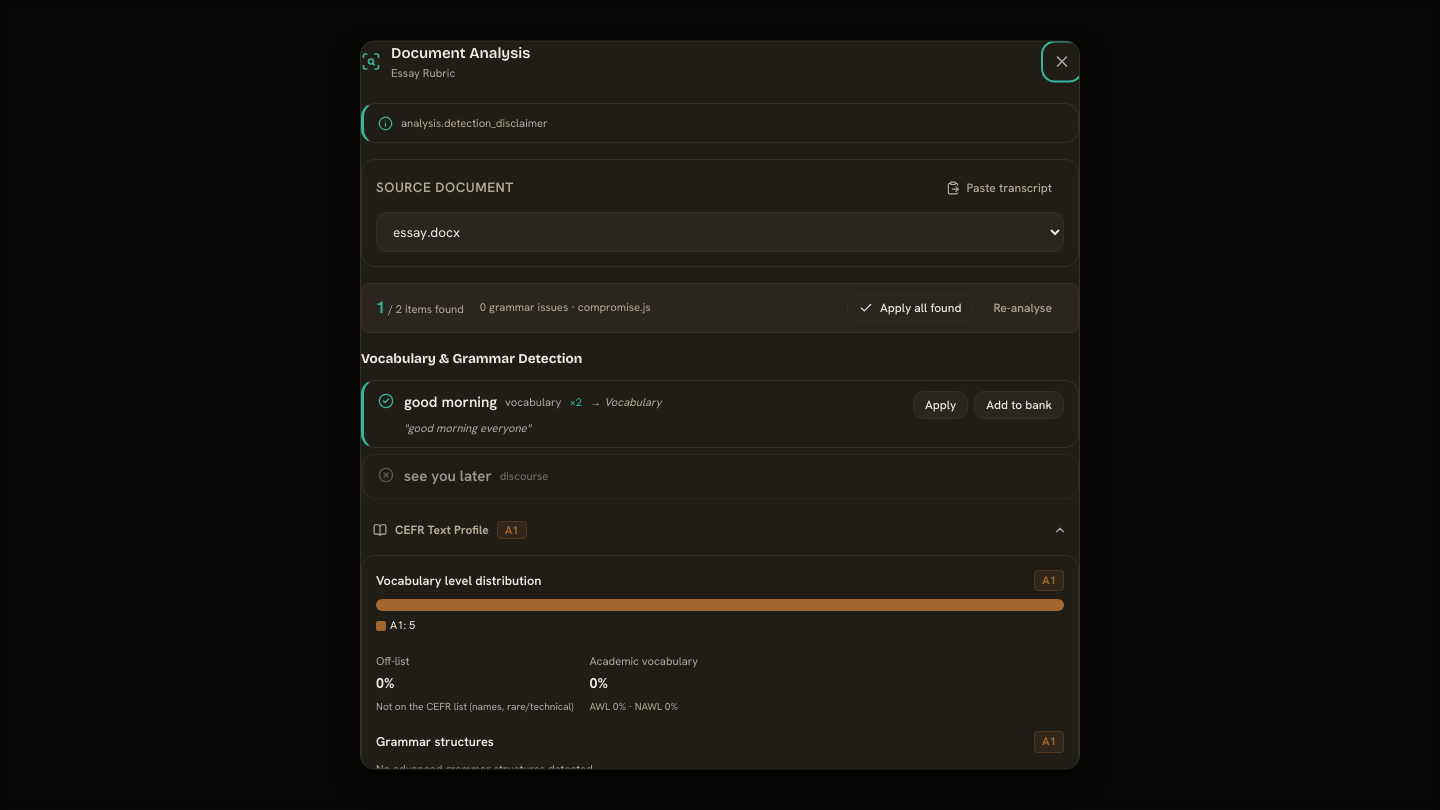
Test: DocumentAnalysisPanel › adds a found phrase to the comment bank
Click the button "Add to bank" at (1019, 404), box [974,390,1064,418]
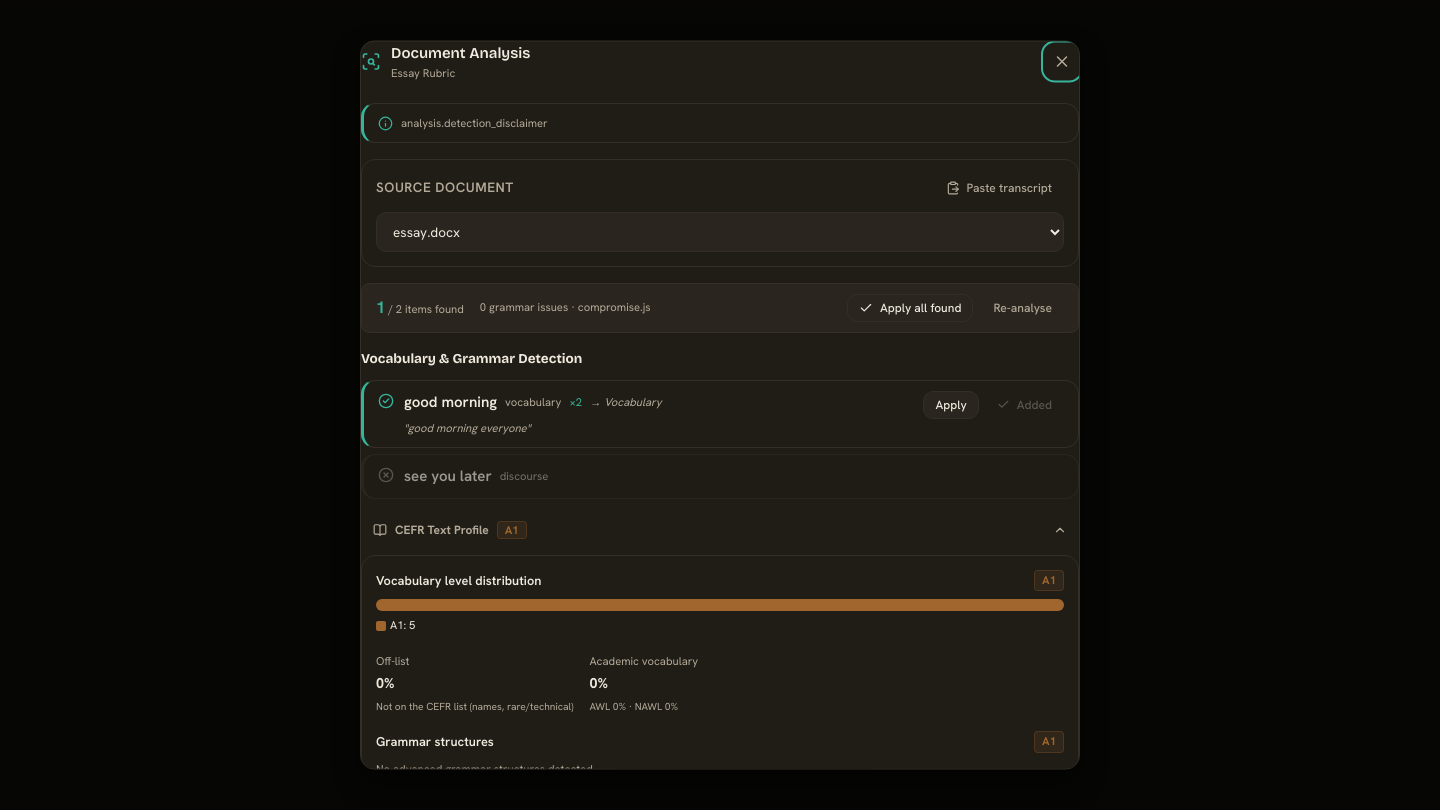
Result: the button "Added" is disabled at [985,390,1064,418]
